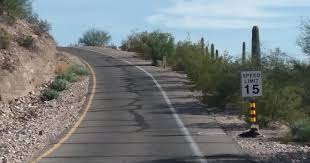speedLimit15: (239, 69, 264, 100)
